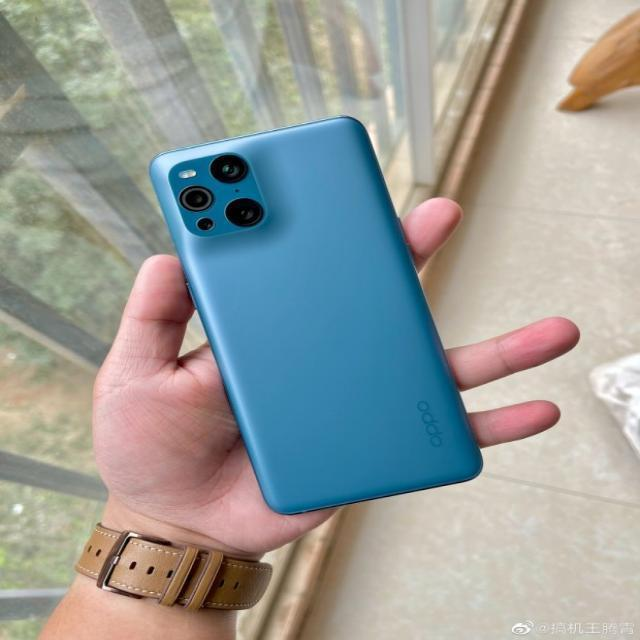phone: (146, 110, 488, 520)
